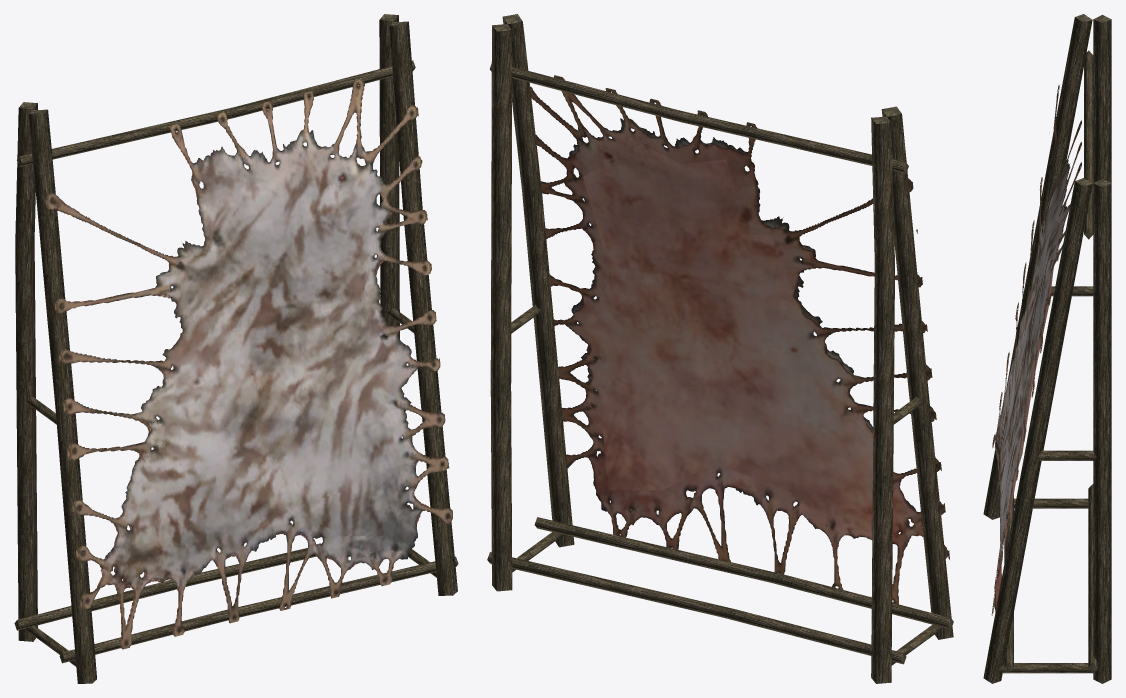
File: thm_dant_hide_tanning_s02_l1.fbx
The picture shows the model from 3 angles, left to right: view 1: azimuth 30°, elevation 25°; view 2: azimuth 150°, elevation 25°; view 3: azimuth 270°, elevation 25°; orthographic projection. The views are drawn at different scales.
Visible parts, largest first — view 1: mesh_node; view 2: mesh_node; view 3: mesh_node.
Part boxes in pixels (box(x1,y1,x2,y2)): mesh_node: box(14, 14, 458, 683); mesh_node: box(487, 14, 953, 683); mesh_node: box(983, 14, 1111, 683).
Bounding box in the file's own units: 1.39 × 1.81 × 0.4214.
